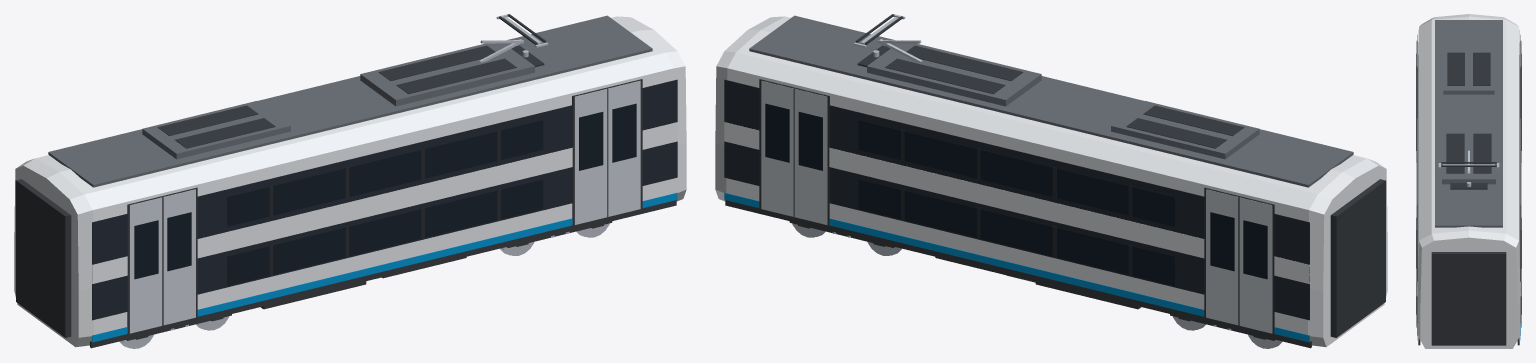
The model's file is rer_d_z20500_car.glb.
3 renders of one model, left to right at view 1: azimuth 30°, elevation 25°; view 2: azimuth 150°, elevation 25°; view 3: azimuth 270°, elevation 25°, orthographic. The views are drawn at different scales.
Visible parts, largest first — view 1: rer_d_z20500_neutral; view 2: rer_d_z20500_neutral; view 3: rer_d_z20500_neutral.
Boxes of the visible parts, x1,y1,x2,y2 form: rer_d_z20500_neutral: (14,14,686,348); rer_d_z20500_neutral: (715,14,1387,348); rer_d_z20500_neutral: (1416,14,1521,348).
Bounding box in the file's own units: 15.14 × 4.88 × 2.97.
